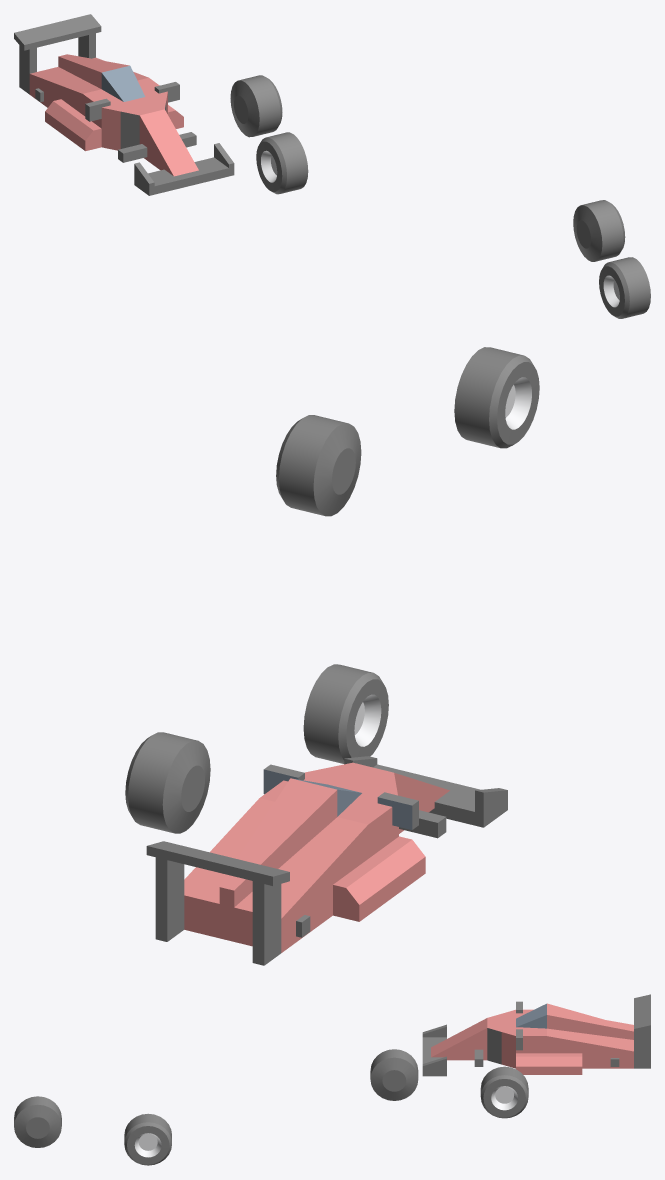
The model's file is raceCarRed.glb.
3 renders of one model, top to bottom at view 1: azimuth 30°, elevation 25°; view 2: azimuth 150°, elevation 25°; view 3: azimuth 270°, elevation 25°, orthographic. The views are drawn at different scales.
Parts seen in each view (by area): view 1: body, wheelBackLeft, wheelFrontLeft, wheelBackRight, wheelFrontRight; view 2: body, wheelFrontLeft, wheelBackLeft, wheelFrontRight, wheelBackRight; view 3: body, wheelBackRight, wheelBackLeft, wheelFrontRight, wheelFrontLeft.
Boxes of the visible parts, <box> form: body: <box>14,14,234,195</box>; wheelBackLeft: <box>230,75,282,137</box>; wheelFrontLeft: <box>573,200,625,261</box>; wheelBackRight: <box>256,132,308,194</box>; wheelFrontRight: <box>599,257,650,318</box>; body: <box>146,756,507,965</box>; wheelFrontLeft: <box>276,415,361,516</box>; wheelBackLeft: <box>125,732,210,833</box>; wheelFrontRight: <box>454,347,539,448</box>; wheelBackRight: <box>303,664,388,763</box>; body: <box>422,994,650,1076</box>; wheelBackRight: <box>370,1049,418,1100</box>; wheelBackLeft: <box>480,1066,528,1118</box>; wheelFrontRight: <box>14,1096,61,1147</box>; wheelFrontLeft: <box>124,1113,171,1165</box>.
Size of the model in its own units: 1.69 by 0.387 by 3.75.
